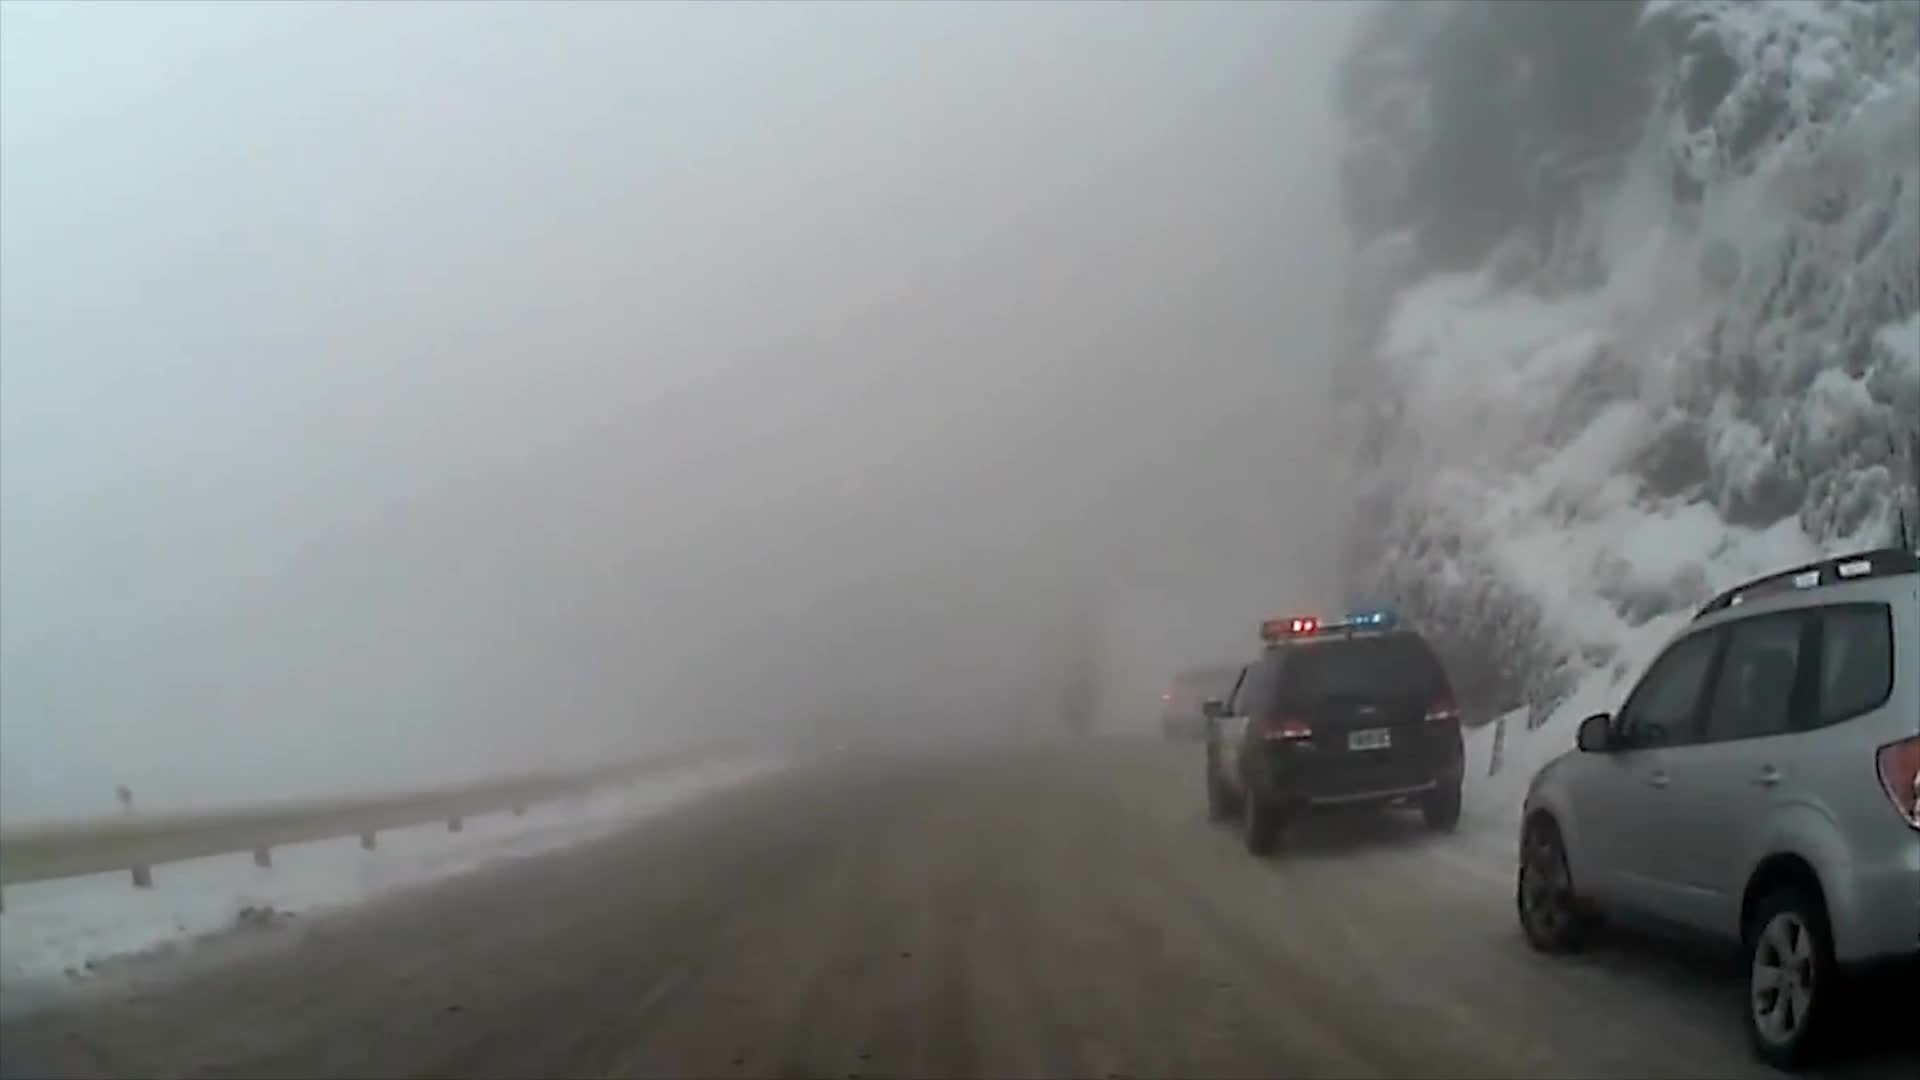vehicle: (1513, 537, 1920, 1073), (1193, 607, 1464, 858)
